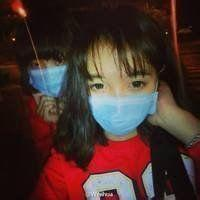OK: (87, 63, 158, 137), (28, 48, 71, 97)
